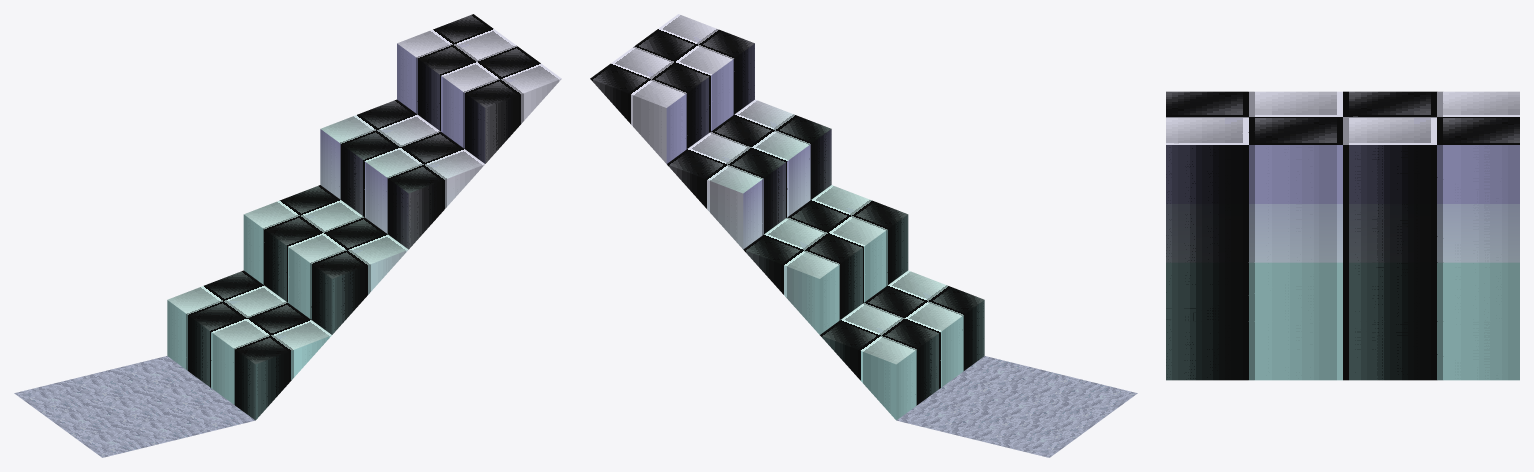
File: km1_dorifu1.glb
The picture shows the model from 3 angles, left to right: view 1: azimuth 30°, elevation 25°; view 2: azimuth 150°, elevation 25°; view 3: azimuth 270°, elevation 25°; orthographic projection. The views are drawn at different scales.
Parts seen in each view (by area): view 1: km1_dorifu1; view 2: km1_dorifu1; view 3: km1_dorifu1.
Boxes of the visible parts, bbox=[...] form: km1_dorifu1: bbox=[14, 14, 561, 457]; km1_dorifu1: bbox=[590, 14, 1137, 457]; km1_dorifu1: bbox=[1166, 91, 1519, 380].
Bounding box in the file's own units: 225 × 125 × 75.
Materials: 2 (2 with a texture image).
